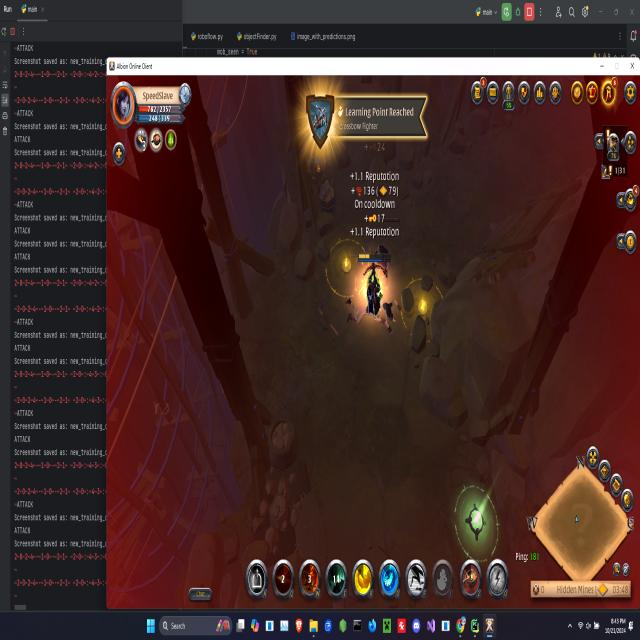ore: (364, 214, 400, 275)
red: (354, 250, 390, 323)
